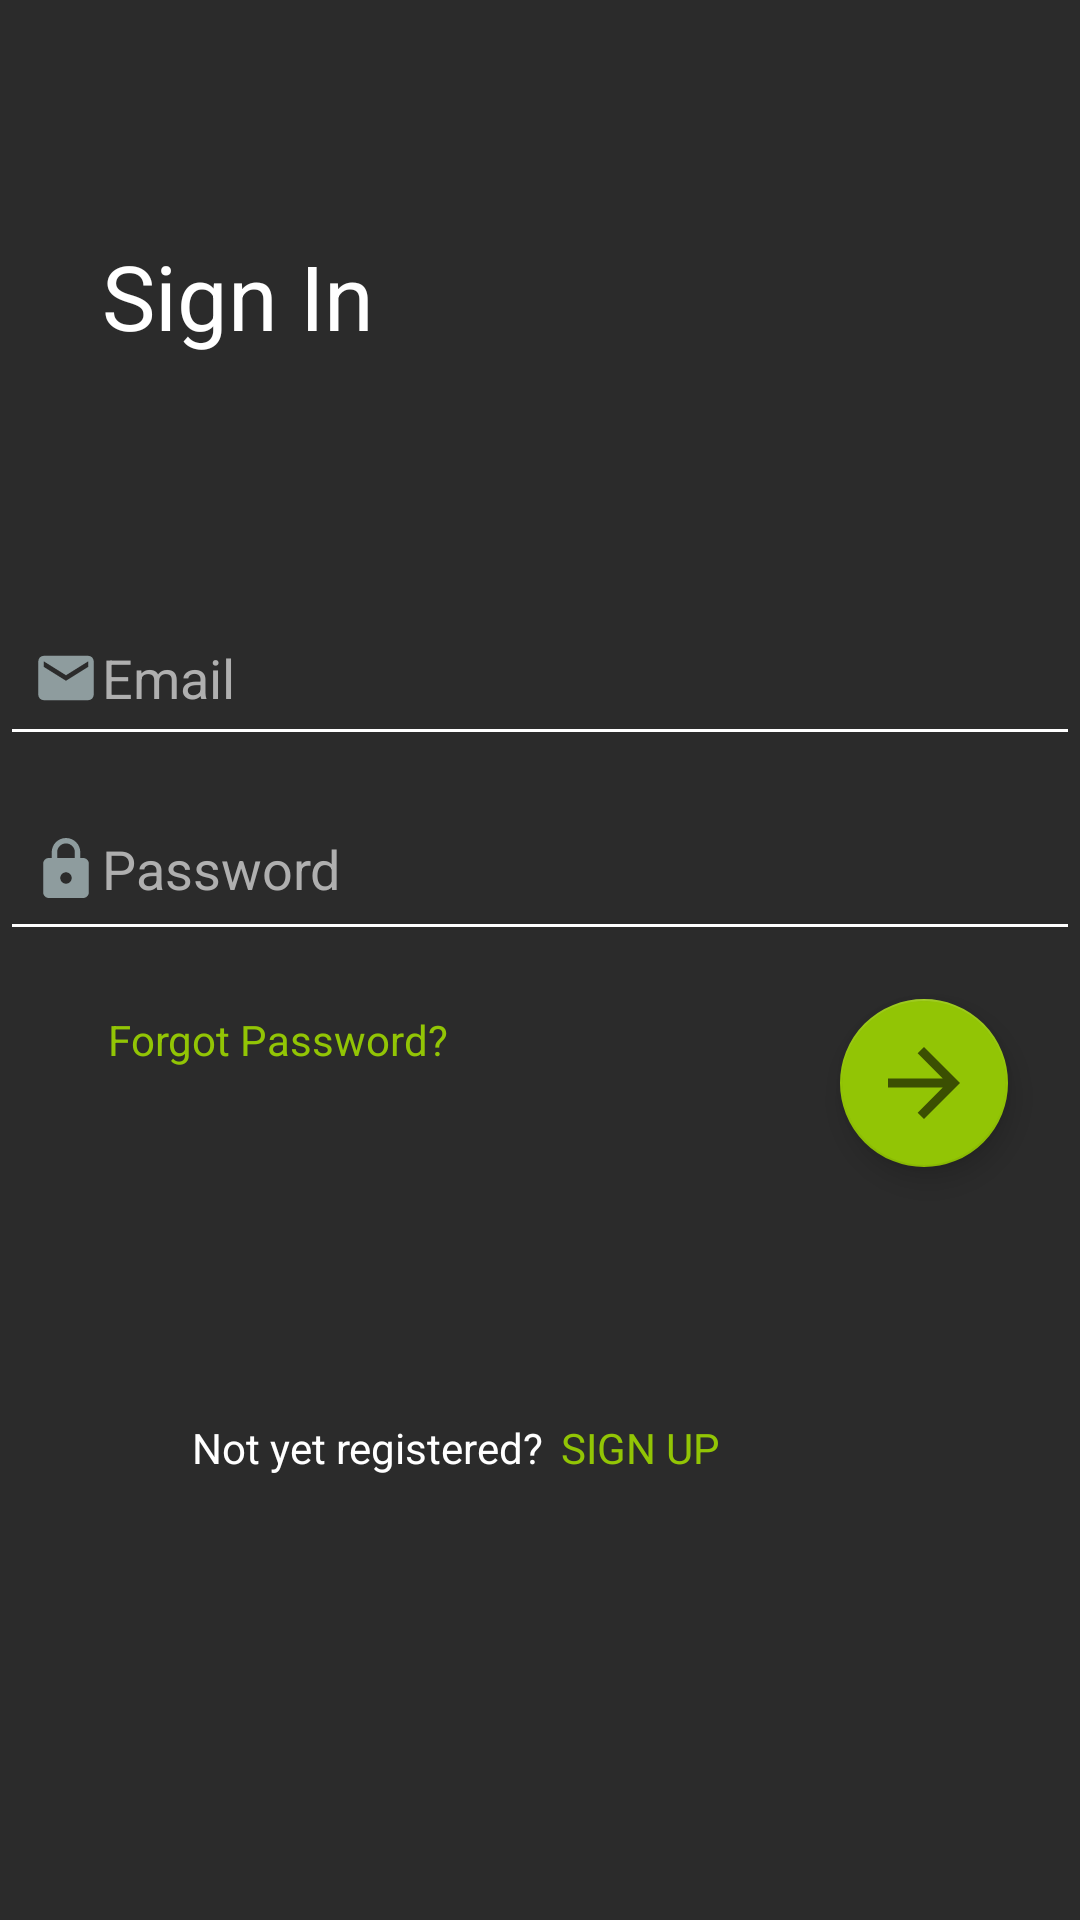

Named icons in this screenshot (1080px x 1920px) and their centers, (x,y):
arrow: (924,1083)
